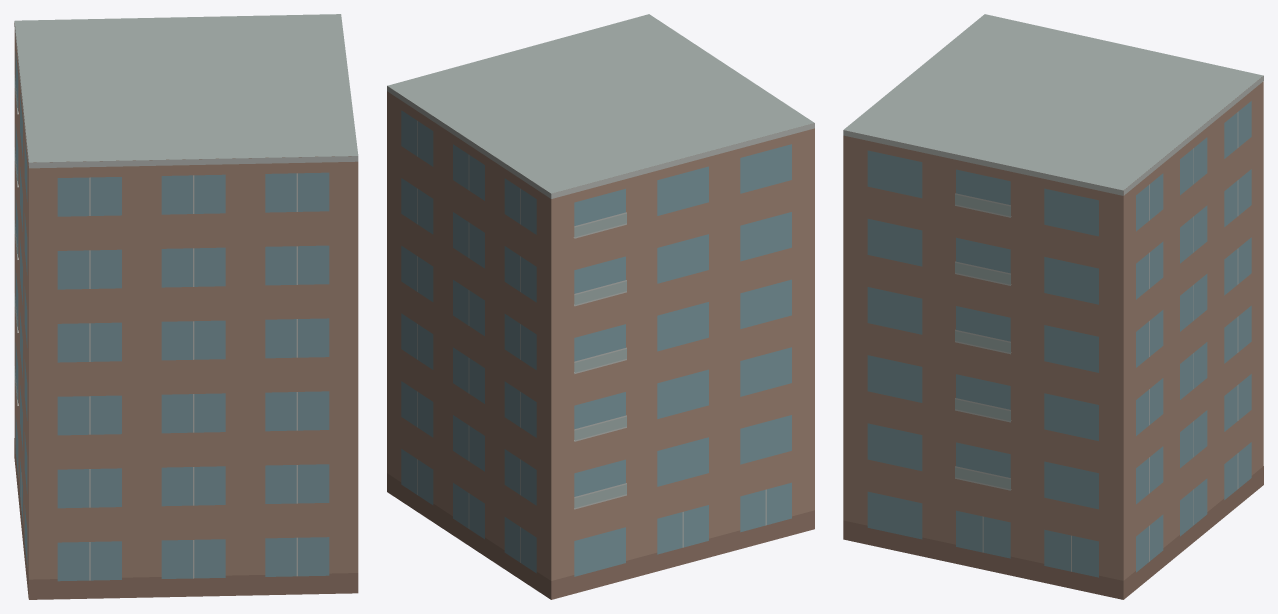
The model's file is survey-upis-32554848.glb.
3 renders of one model, left to right at view 1: azimuth 30°, elevation 25°; view 2: azimuth 150°, elevation 25°; view 3: azimuth 270°, elevation 25°, orthographic. The views are drawn at different scales.
Parts seen in each view (by area): view 1: survey-upis-32554848.tmp; view 2: survey-upis-32554848.tmp; view 3: survey-upis-32554848.tmp.
Part boxes in pixels (x1,y1,x2,y2): survey-upis-32554848.tmp: (14, 14, 358, 599); survey-upis-32554848.tmp: (387, 14, 814, 599); survey-upis-32554848.tmp: (843, 14, 1263, 599).
Bounding box in the file's own units: 16.93 × 18.3 × 17.05.
